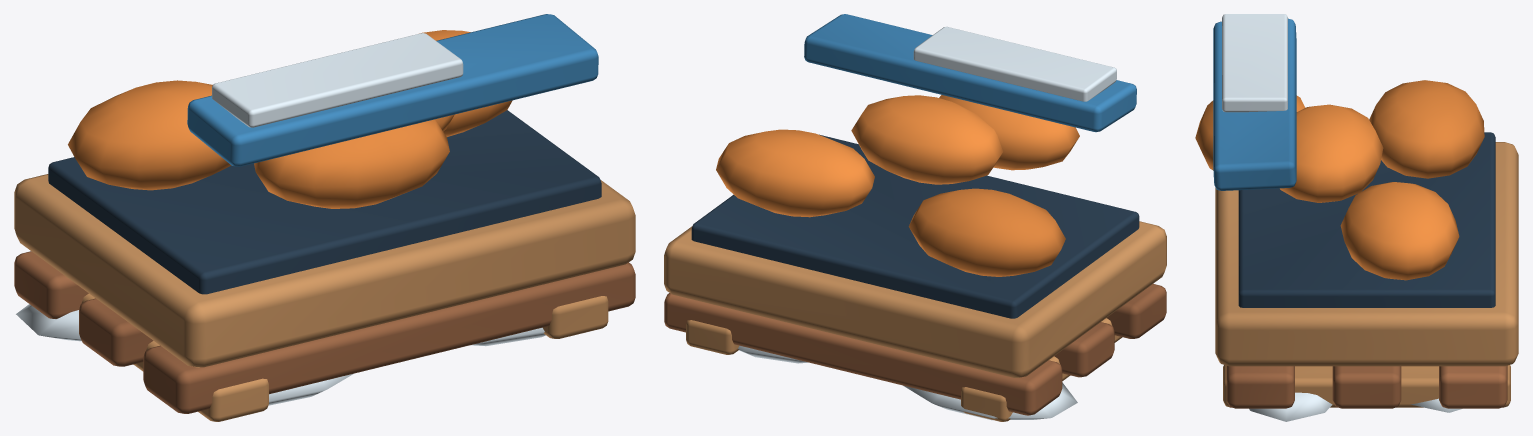
File: cooked_food_stack.glb
The picture shows the model from 3 angles, left to right: view 1: azimuth 30°, elevation 25°; view 2: azimuth 150°, elevation 25°; view 3: azimuth 270°, elevation 25°; orthographic projection. The views are drawn at different scales.
Visible parts, largest first — view 1: cooked_food_stack; view 2: cooked_food_stack; view 3: cooked_food_stack.
Boxes of the visible parts, x1,y1,x2,y2 form: cooked_food_stack: (14,14,635,421); cooked_food_stack: (664,14,1166,421); cooked_food_stack: (1195,14,1518,421).
Size of the model in its own units: 1.4 by 0.88 by 0.9812.
